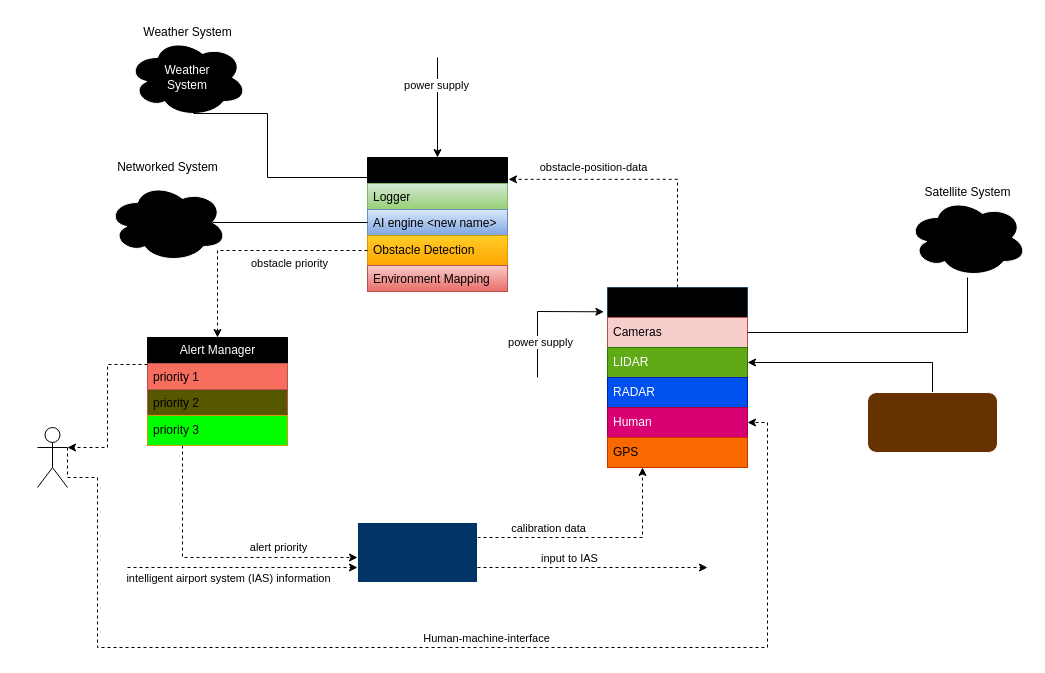
Image size: 1045x673. Some labels were removed from this diagram. The shapes that lost their labels are listed below. From the top down, each one's box as (x1, y1, x2, y2) in pixels, then its label:
(106, 182, 228, 262): AI System
(366, 156, 508, 292): FOD S Server
(906, 196, 1028, 278): GPS System
(606, 286, 748, 468): Sensors
(866, 392, 998, 452): Obstacle
(36, 426, 68, 488): Stakeholders
(356, 522, 478, 582): Foriegn Object Detection System
